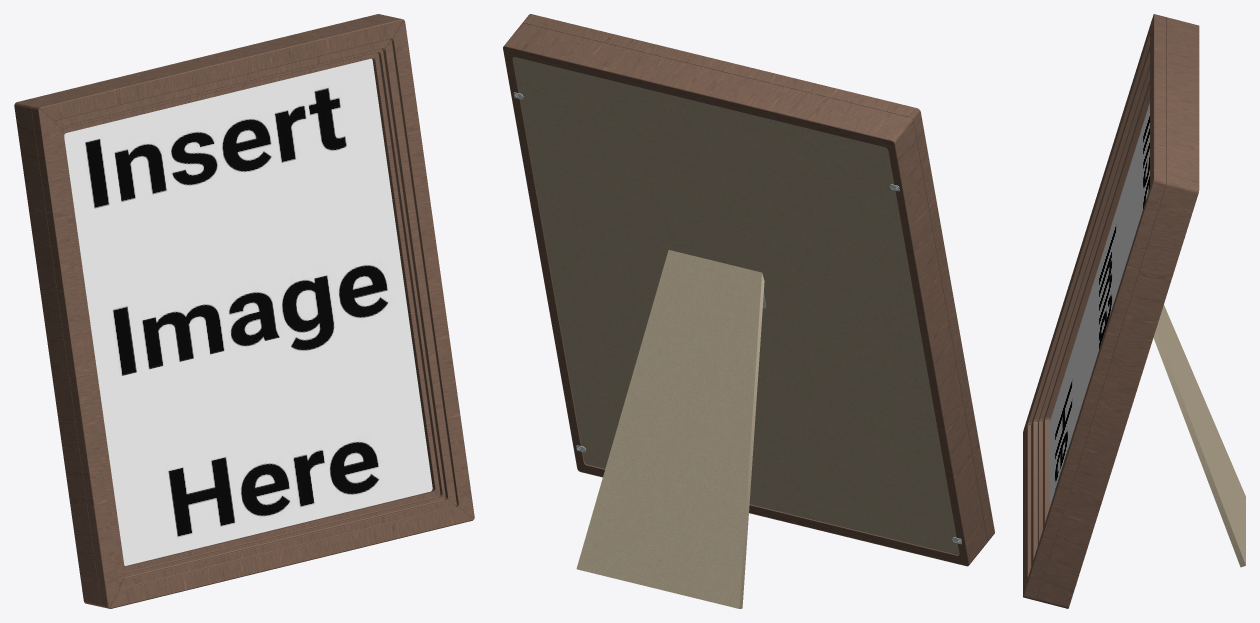
Rendered from wooden_picture_frame.450742db.glb.
3 views of the same model, side by side, from view 1: azimuth 30°, elevation 25°; view 2: azimuth 150°, elevation 25°; view 3: azimuth 270°, elevation 25° (orthographic). The views are drawn at different scales.
Parts seen in each view (by area): view 1: Cube.002; view 2: Cube.002; view 3: Cube.002.
Part boxes in pixels (bbox=[...]): Cube.002: bbox=[14, 14, 474, 608]; Cube.002: bbox=[503, 14, 994, 608]; Cube.002: bbox=[1023, 14, 1245, 608].
Bounding box in the file's own units: 1.77 × 2.13 × 0.9991.
4 materials, 4 textured.
